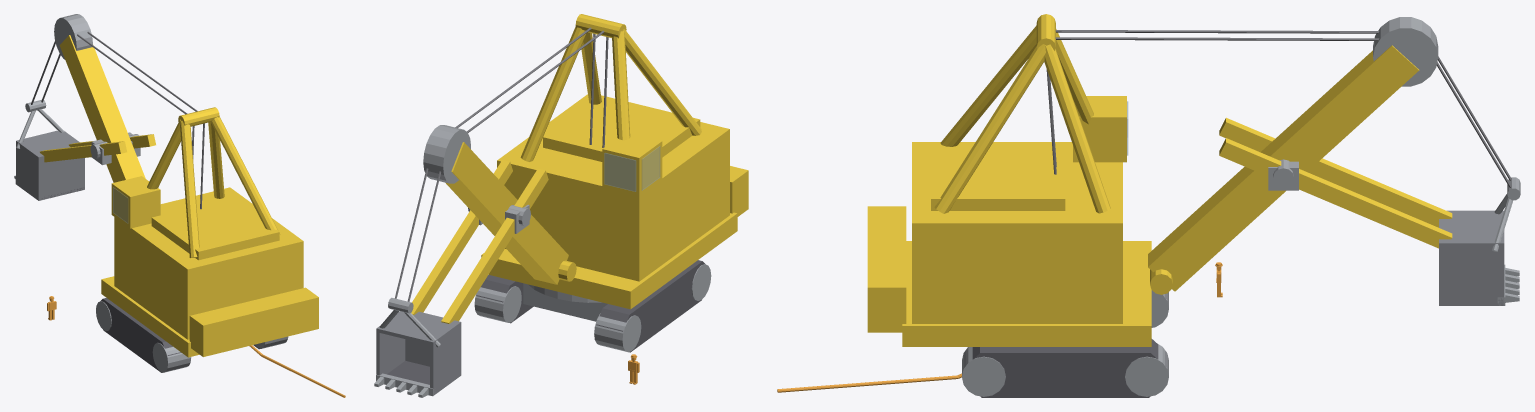
Rendered from rope-shovel.glb.
3 views of the same model, side by side, from view 1: azimuth 30°, elevation 25°; view 2: azimuth 150°, elevation 25°; view 3: azimuth 270°, elevation 25° (orthographic). The views are drawn at different scales.
Visible parts, largest first — view 1: machinery_house, counterweight, gantry, boom, dipper, operator_cab, crawlers, tumblers_rollers, dipper_handle, wire_ropes, boom_point_sheaves, bail (+3 smaller); view 2: machinery_house, gantry, boom, dipper, dipper_handle, crawlers, tumblers_rollers, operator_cab, wire_ropes, boom_point_sheaves, car_body, cab_glass (+5 smaller); view 3: machinery_house, boom, gantry, dipper_handle, crawlers, dipper, counterweight, tumblers_rollers, wire_ropes, boom_point_sheaves, operator_cab, shipper_shaft_crowd (+2 smaller).
Boxes of the visible parts, x1,y1,x2,y2 form: machinery_house: (101, 187, 303, 357); counterweight: (189, 287, 318, 356); gantry: (147, 107, 280, 258); boom: (59, 35, 145, 182); dipper: (16, 130, 84, 200); operator_cab: (111, 176, 160, 228); crawlers: (101, 298, 259, 372); tumblers_rollers: (96, 301, 288, 372); dipper_handle: (40, 134, 155, 162); wire_ropes: (31, 31, 204, 209); boom_point_sheaves: (54, 14, 92, 59); bail: (16, 99, 64, 148); machinery_house: (481, 94, 737, 309); gantry: (520, 14, 701, 161); boom: (445, 142, 576, 284); dipper: (376, 311, 461, 395); dipper_handle: (411, 160, 548, 323); crawlers: (476, 260, 704, 352); tumblers_rollers: (474, 264, 711, 352); operator_cab: (602, 133, 662, 196); wire_ropes: (395, 27, 608, 301); boom_point_sheaves: (423, 125, 470, 183); car_body: (523, 283, 607, 321); cab_glass: (604, 146, 660, 191); machinery_house: (902, 142, 1151, 346); boom: (1148, 45, 1419, 294); gantry: (934, 14, 1110, 213); dipper_handle: (1219, 117, 1452, 248); crawlers: (964, 294, 1166, 397); dipper: (1439, 210, 1504, 305); counterweight: (867, 206, 906, 332); tumblers_rollers: (962, 290, 1168, 396); wire_ropes: (1046, 30, 1511, 187); boom_point_sheaves: (1373, 17, 1438, 86); operator_cab: (1073, 96, 1126, 162); shipper_shaft_crowd: (1268, 159, 1298, 190).
Bounding box in the file's own units: 13.11 × 19.2 × 38.74.
